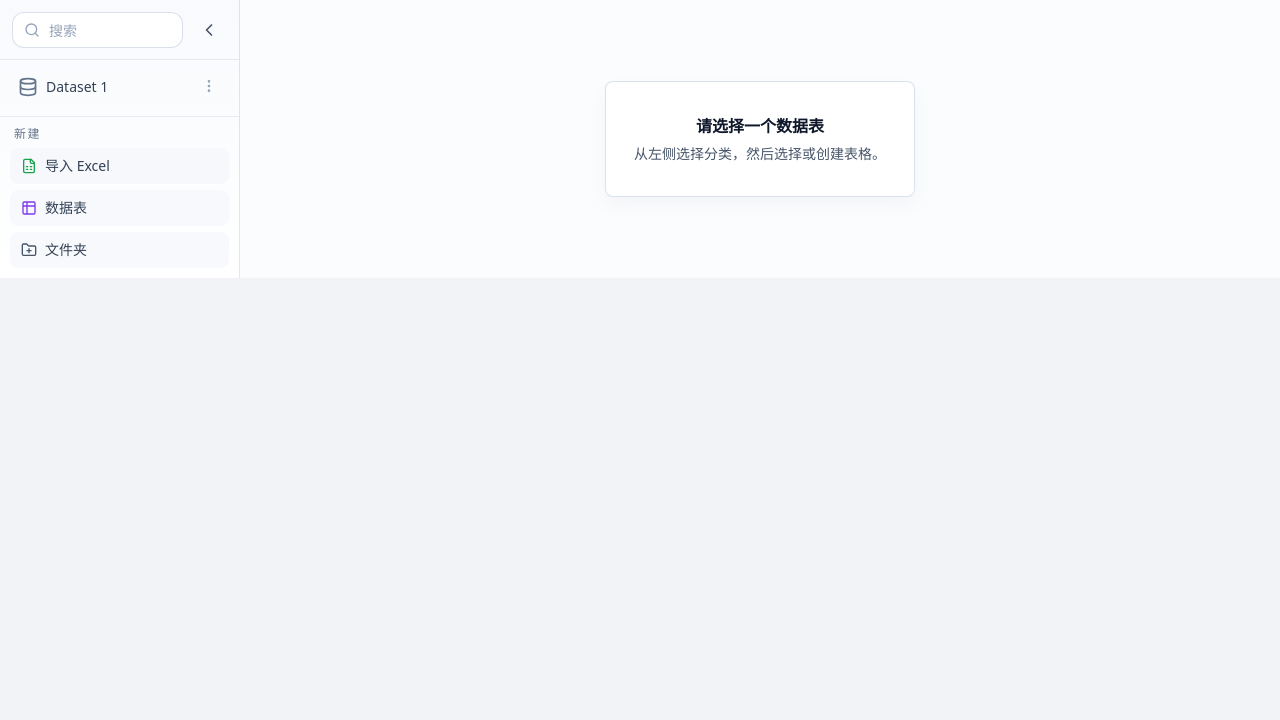
Test: DatasetsPage sidebar search wiring › should preserve responsive sidebar collapse while opening the quick-search overlay in the real page shell
expect the field with placeholder "搜索" is shown: met, box 12,12 -> 183,48
Click the button titled "收起侧边栏".
click(209, 30)  # box 191,12 -> 227,48
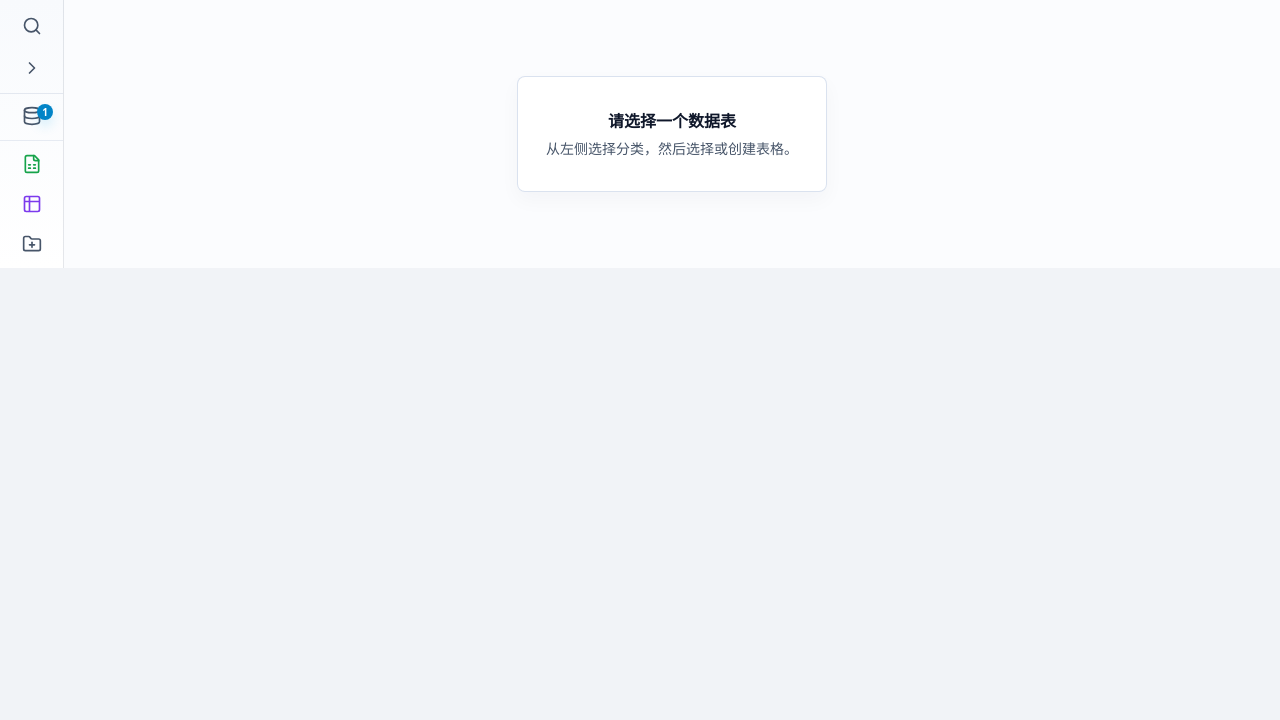
expect the list item titled "Dataset 1" is shown: met, box 6,100 -> 57,132
Click the button titled "快速搜索".
click(32, 26)  # box 8,8 -> 55,44
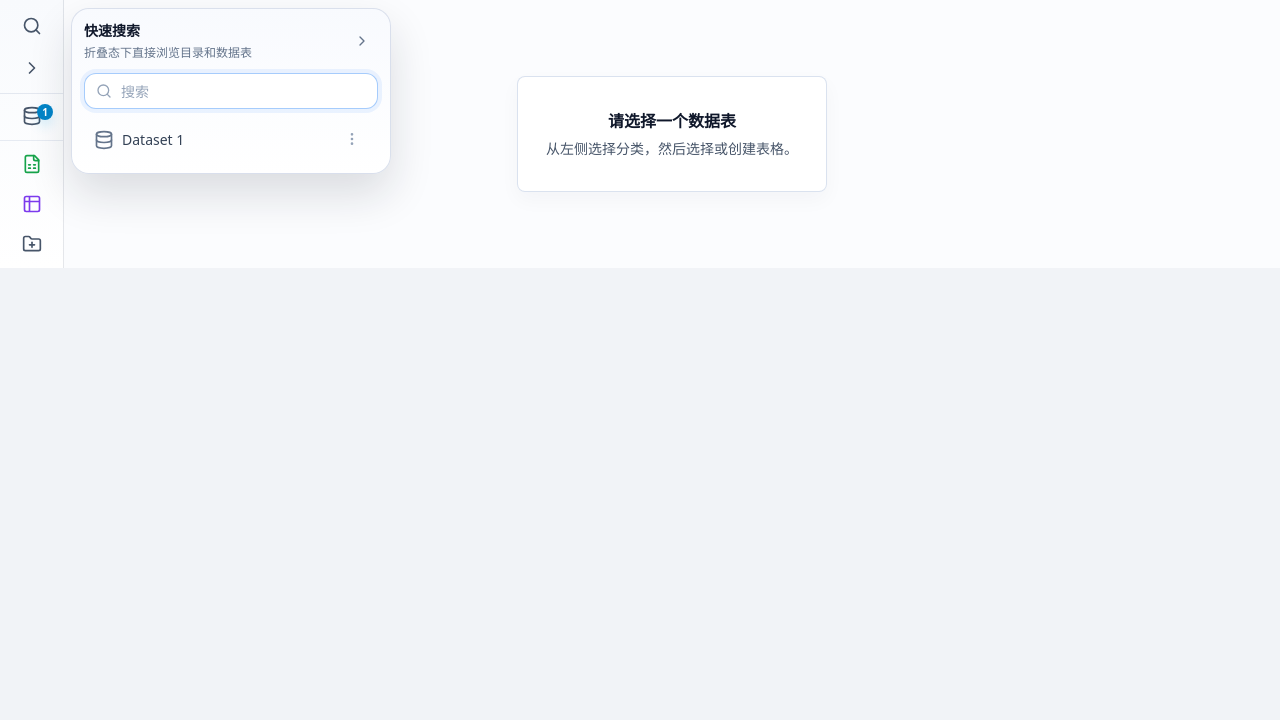
expect the text "快速搜索" is shown: met, box 84,21 -> 140,40
